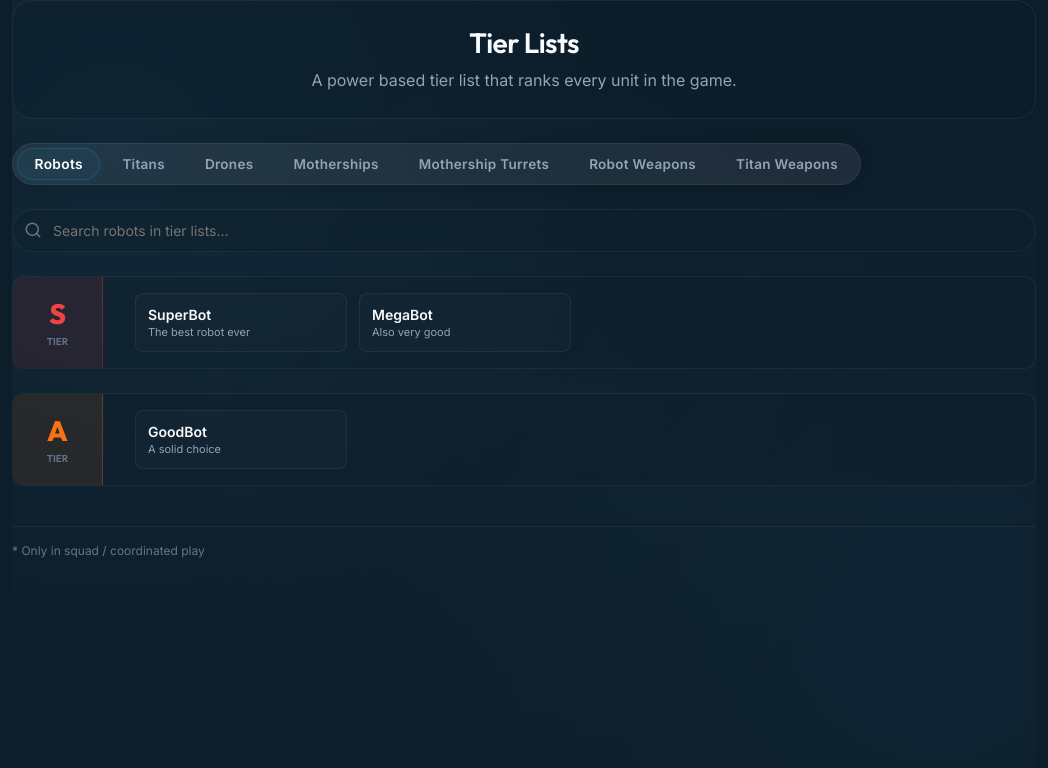
Test: TierListTab › filters items based on search query
Expected: the text "SuperBot" is shown, [148,306,211,323]
Expected: the text "MegaBot" is shown, [372,306,433,323]
Note: Find search input and type query
In the field with placeholder "Search robots in tier lists...": (524, 230) [12,209,1036,252], type "mega"
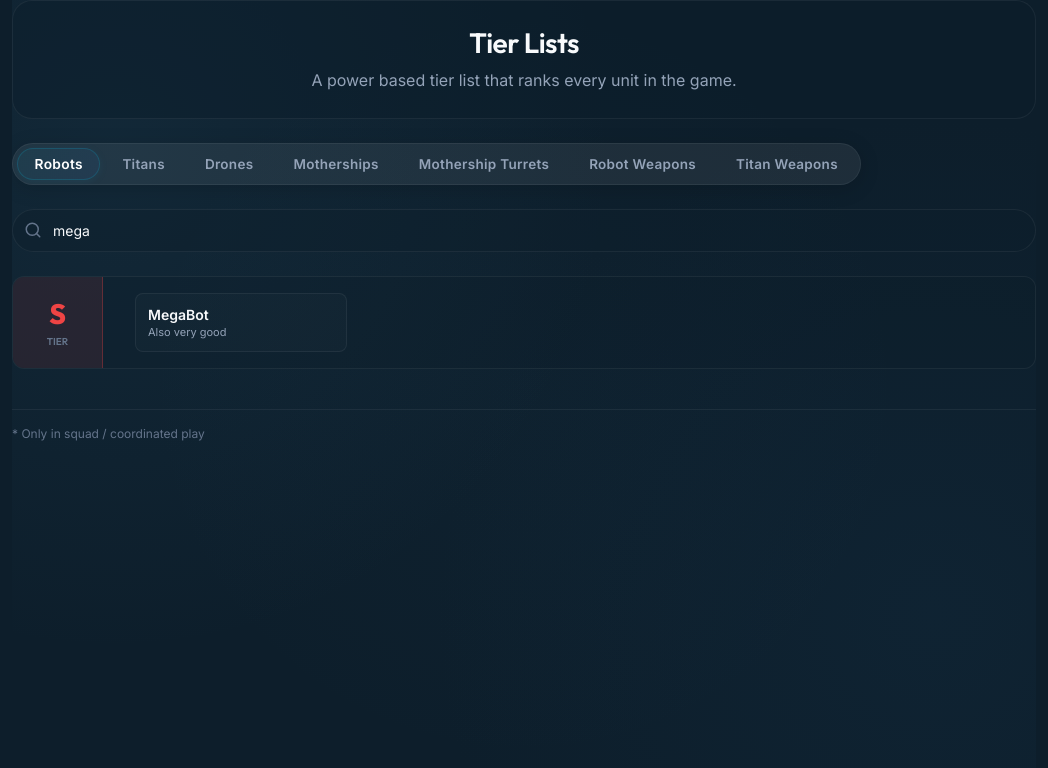
Expected: the text "MegaBot" is shown, [148,306,209,323]
Expected: the text "SuperBot" is gone
Expected: the text "GoodBot" is gone
